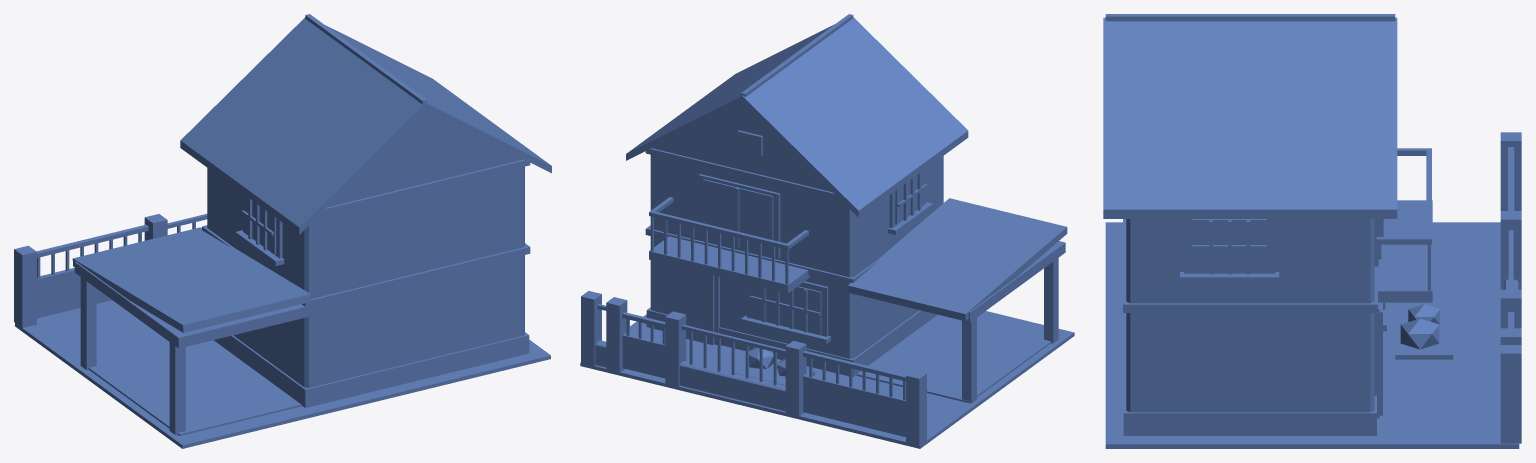
The picture shows the model from 3 angles, left to right: view 1: azimuth 30°, elevation 25°; view 2: azimuth 150°, elevation 25°; view 3: azimuth 270°, elevation 25°; orthographic projection. The views are drawn at different scales.
Parts seen in each view (by area): view 1: corpo; view 2: corpo; view 3: corpo.
Boxes of the visible parts, x1=… form: corpo: x1=14, y1=14, x2=551, y2=448; corpo: x1=580, y1=14, x2=1074, y2=448; corpo: x1=1103, y1=14, x2=1521, y2=448.
Size of the model in its own units: 1.27 by 0.953 by 1.01.
